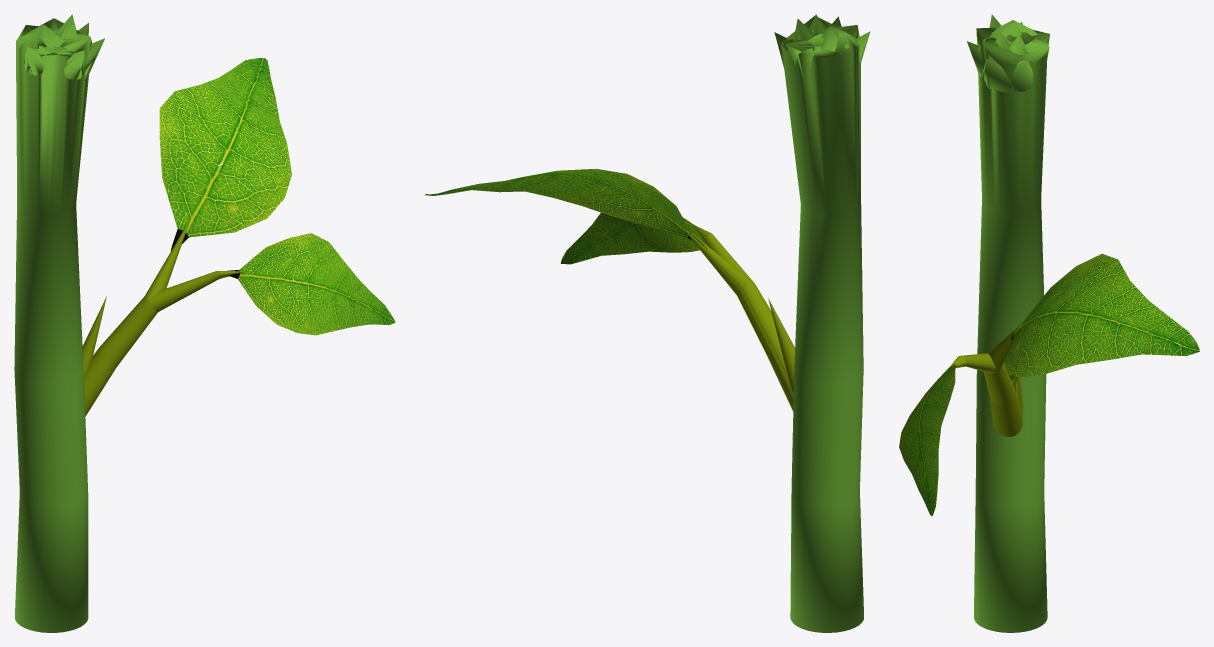
The model's file is stem1.gltf.
3 renders of one model, left to right at view 1: azimuth 30°, elevation 25°; view 2: azimuth 150°, elevation 25°; view 3: azimuth 270°, elevation 25°, orthographic.
Visible parts, largest first — view 1: Circle, Plane, Plane.001, Circle.001; view 2: Circle, Plane, Circle.001, Plane.001; view 3: Circle, Plane, Plane.001, Circle.001.
Boxes of the visible parts, x1,y1,x2,y2 form: Circle: [14, 14, 104, 632]; Plane: [159, 58, 291, 250]; Plane.001: [227, 233, 395, 335]; Circle.001: [82, 218, 248, 416]; Circle: [774, 14, 870, 632]; Plane: [425, 169, 707, 249]; Circle.001: [681, 225, 794, 411]; Plane.001: [560, 212, 706, 264]; Circle: [967, 14, 1049, 632]; Plane: [1004, 253, 1199, 377]; Plane.001: [899, 364, 956, 516]; Circle.001: [948, 325, 1023, 436].
Bounding box in the file's own units: 7.55 × 12.59 × 5.76.
Materials: 4 (2 with a texture image).
